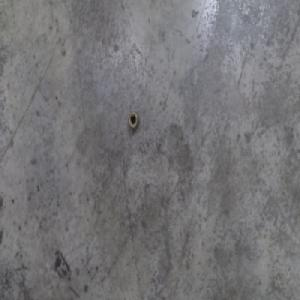Nut: (127, 110, 139, 131)
